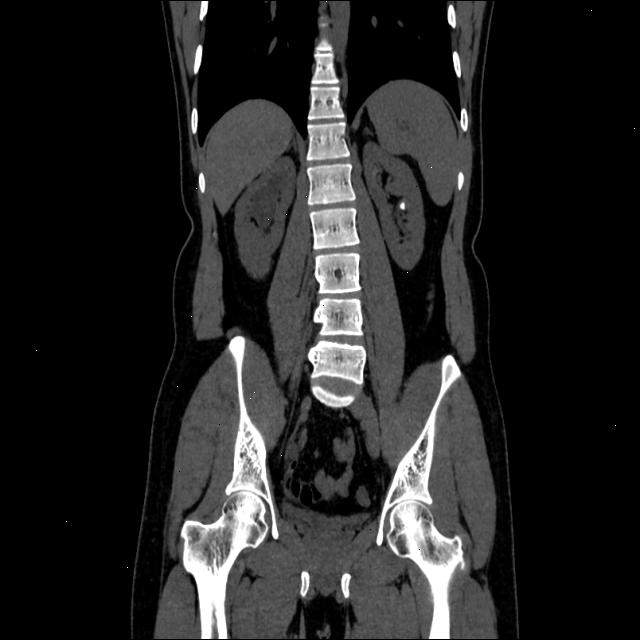kidneystone: (399, 202, 405, 210)
